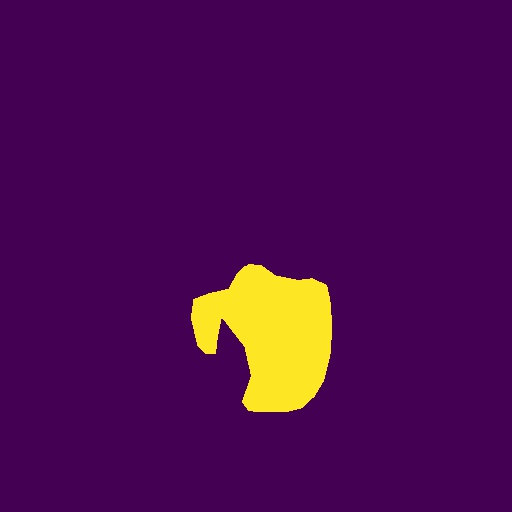Gliomia_tumour: (191, 264, 332, 412)
